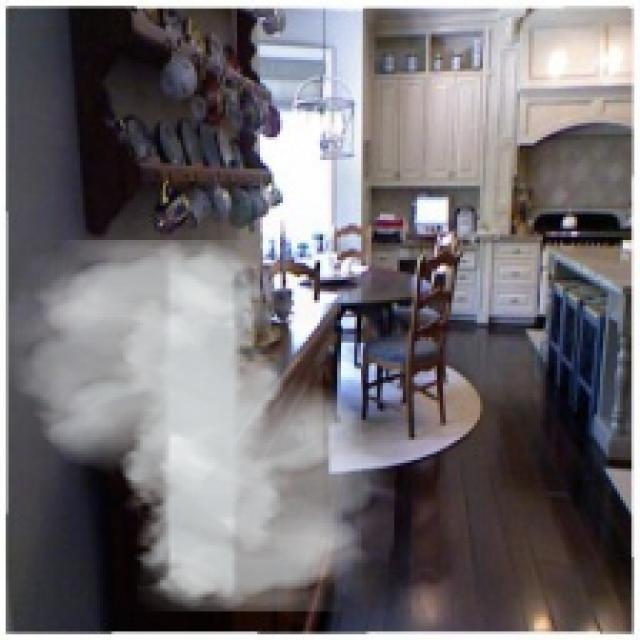Smoke: (8, 239, 394, 612)
